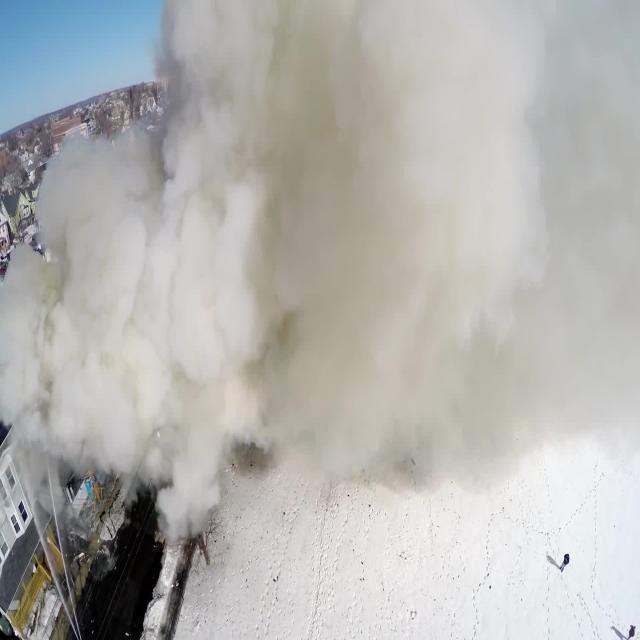Smoke: (3, 172, 640, 385), (67, 262, 640, 498), (164, 0, 640, 260)
